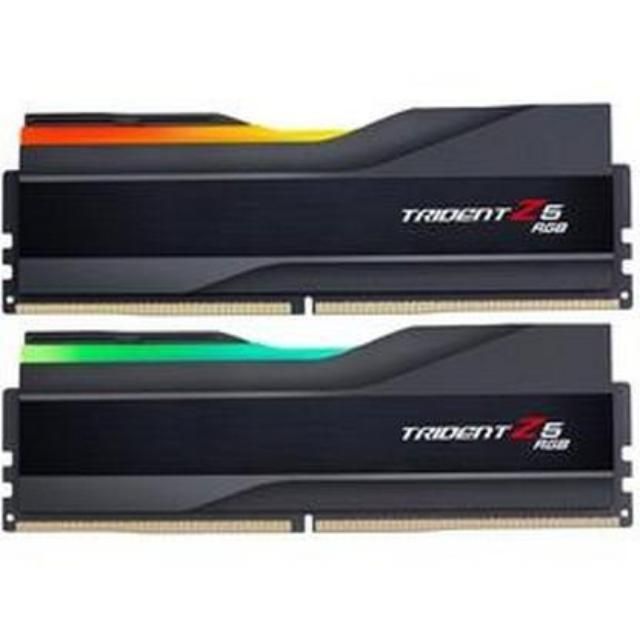RAM: (0, 92, 640, 324), (0, 328, 640, 542)
